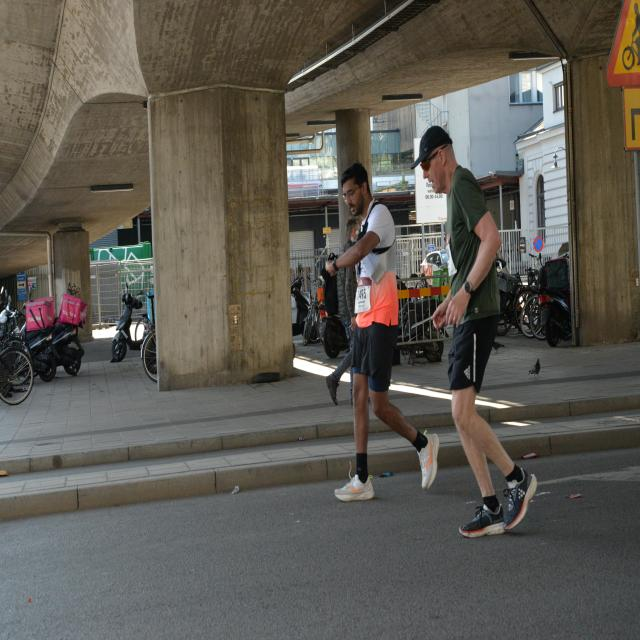runner-detect: (404, 113, 554, 538), (327, 164, 440, 522)
